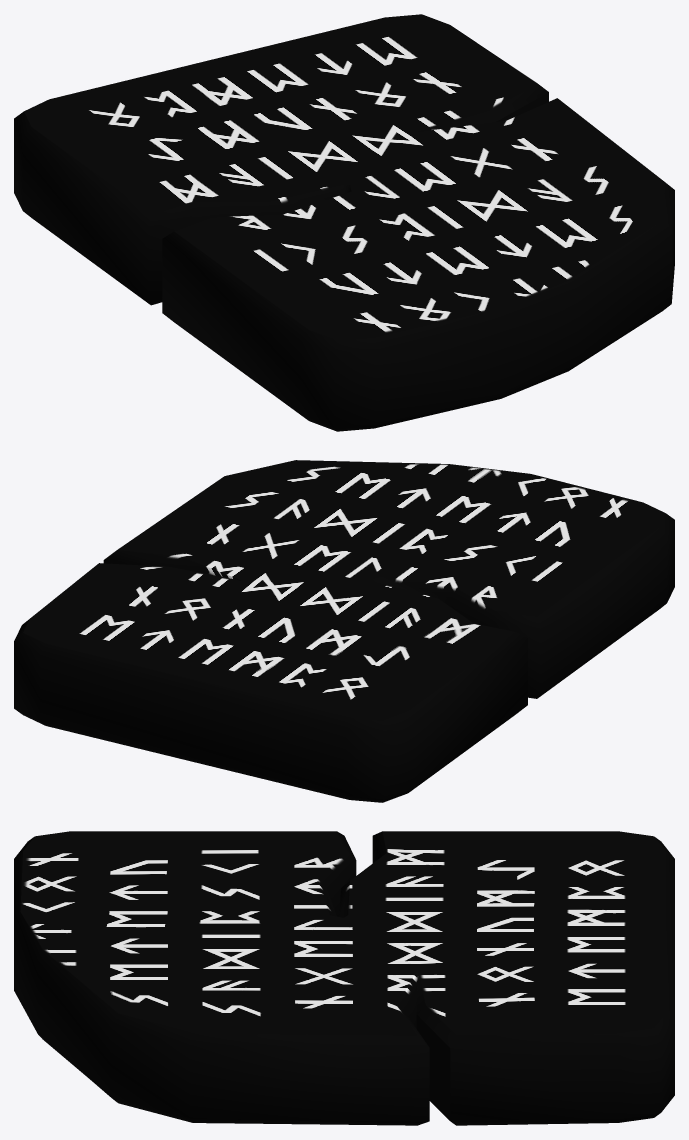
The model's file is Tablet.FBX.
3 renders of one model, top to bottom at view 1: azimuth 30°, elevation 25°; view 2: azimuth 150°, elevation 25°; view 3: azimuth 270°, elevation 25°, orthographic. The views are drawn at different scales.
Parts seen in each view (by area): view 1: Box001; view 2: Box001; view 3: Box001.
Boxes of the visible parts, x1,y1,x2,y2 form: Box001: [14, 14, 674, 431]; Box001: [14, 460, 674, 802]; Box001: [14, 831, 674, 1125].
Size of the model in its own units: 76.01 by 100 by 15.
